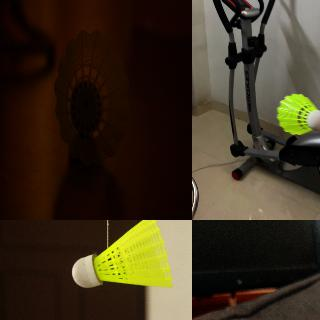shuttlecock: (55, 30, 129, 164), (72, 220, 173, 288), (275, 92, 319, 134)
